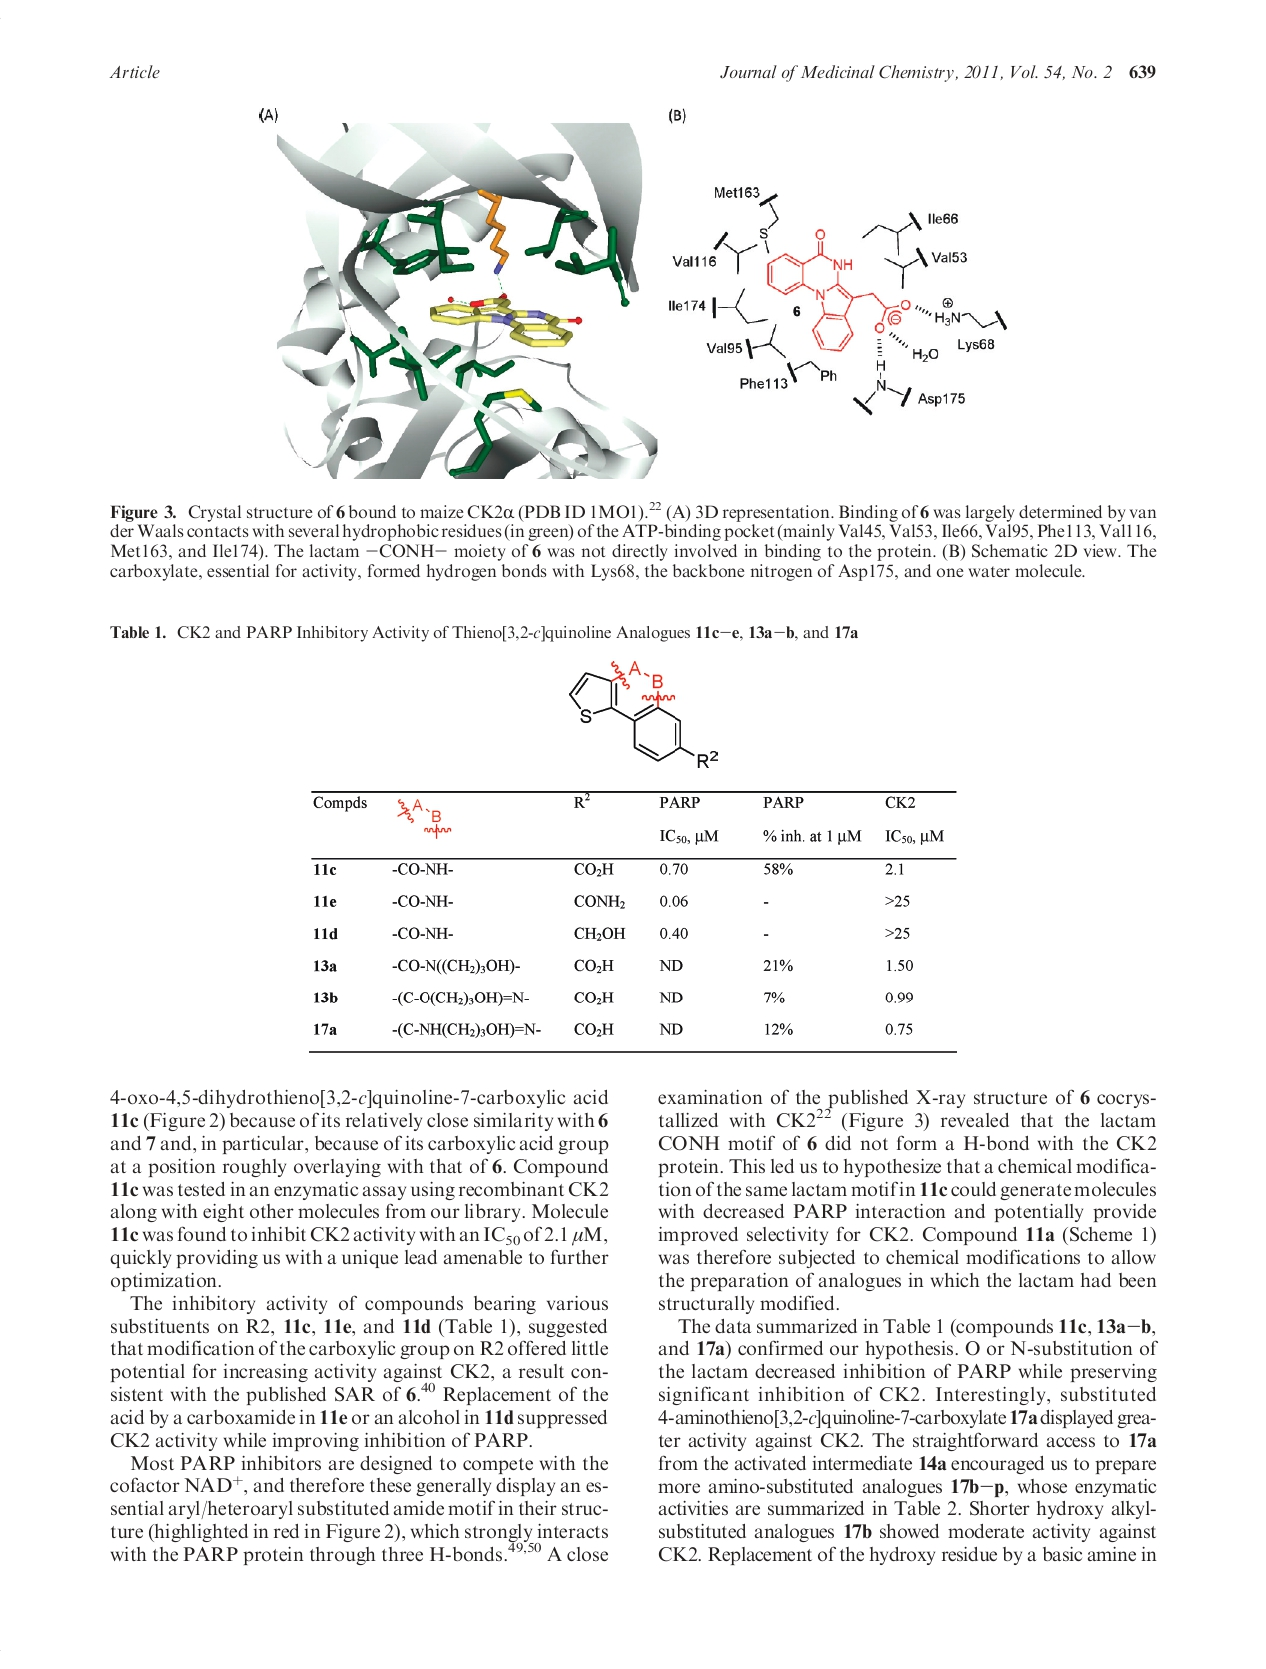exist_molecular: (765, 226, 1011, 418), (567, 652, 725, 770), (856, 207, 922, 255), (391, 793, 451, 842), (882, 243, 931, 293), (709, 285, 769, 324), (710, 230, 761, 275), (755, 192, 789, 254), (742, 323, 789, 363), (781, 360, 840, 390)
